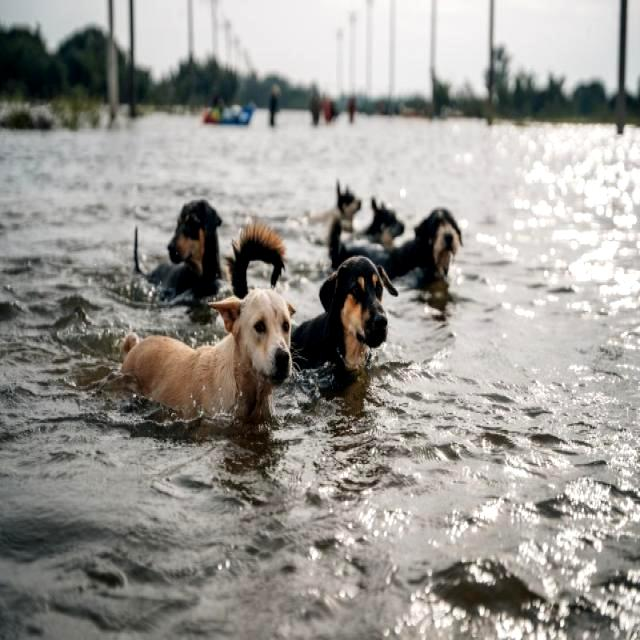civilian: (265, 78, 281, 130), (304, 80, 320, 129), (321, 94, 339, 129), (346, 89, 358, 124)
dog: (227, 226, 394, 394), (117, 291, 309, 433), (125, 192, 228, 304), (369, 204, 477, 292), (333, 194, 413, 256), (299, 176, 359, 230)
